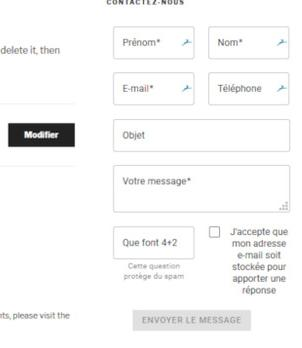button: (130, 306, 251, 332), (7, 122, 77, 148)
field: (109, 164, 290, 214), (112, 118, 290, 153), (206, 25, 289, 61), (110, 25, 195, 60), (205, 71, 290, 106), (112, 224, 194, 260), (112, 72, 195, 105)
